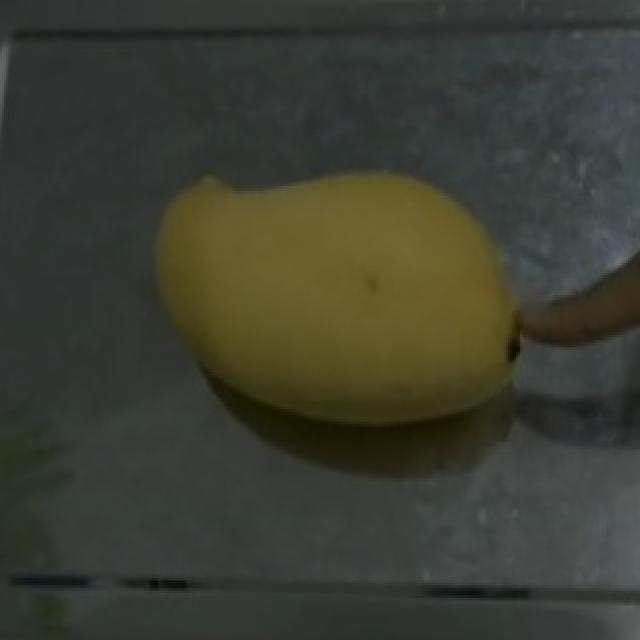fruit: (176, 139, 552, 454)
